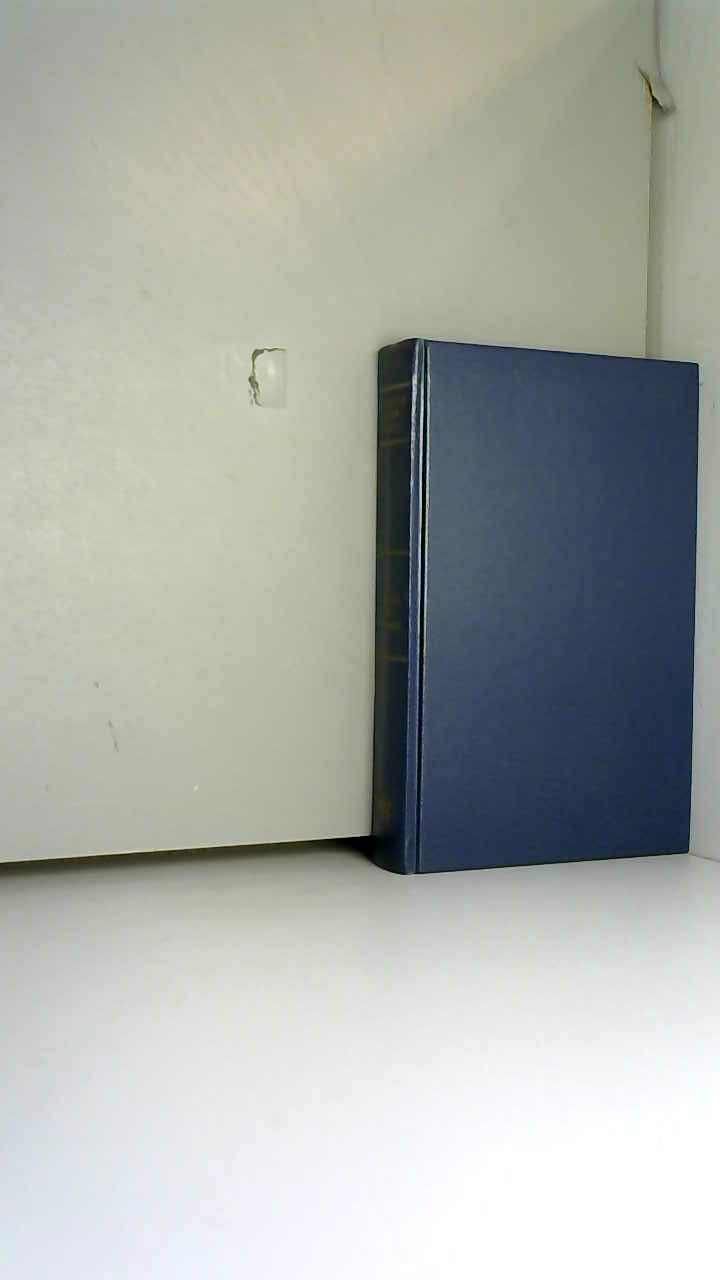book: (347, 305, 720, 905)
